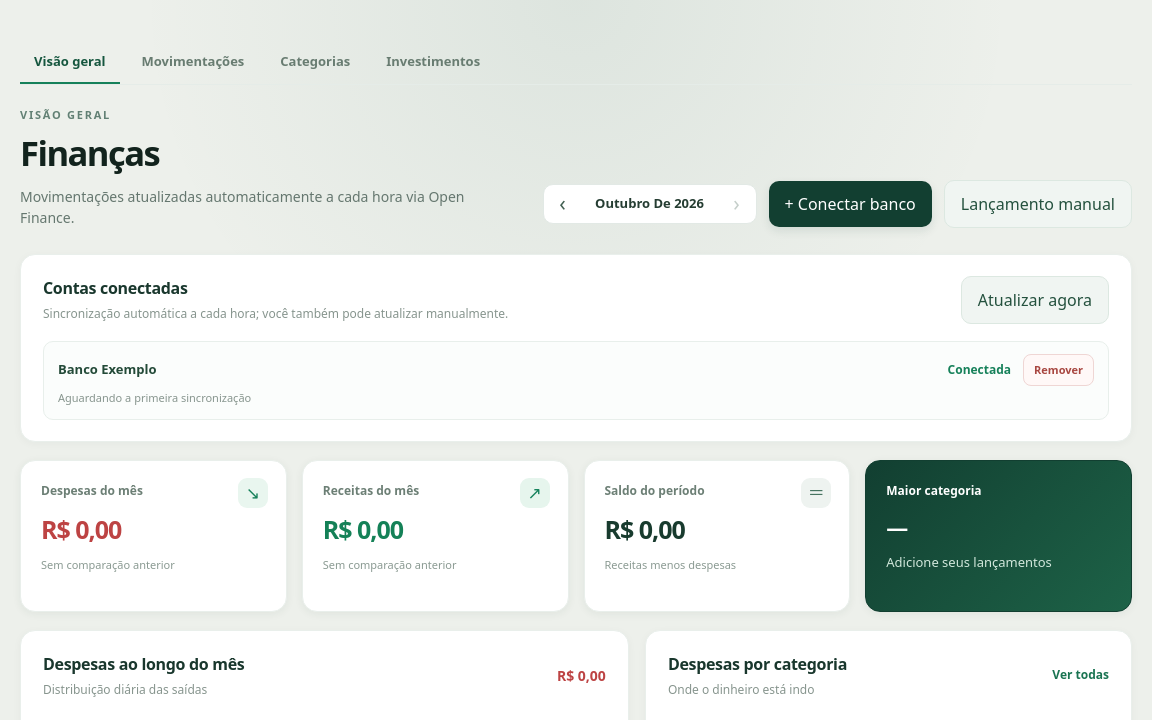
Test: disconnect action revokes the Pluggy link and keeps history
Click the button with aria-label "Remover conexão com Banco Exemplo".
click(1059, 370)  # box [1023,354,1094,386]
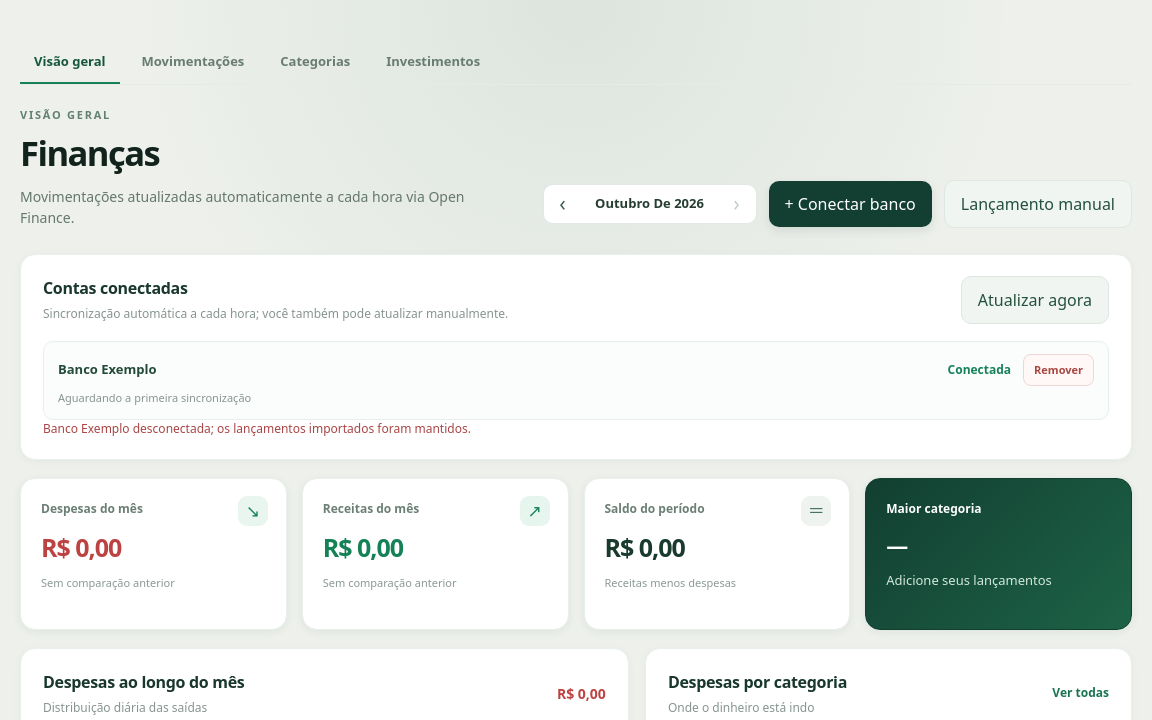
Result: the message shows "lançamentos importados foram mantidos" at [43,420,471,437]
